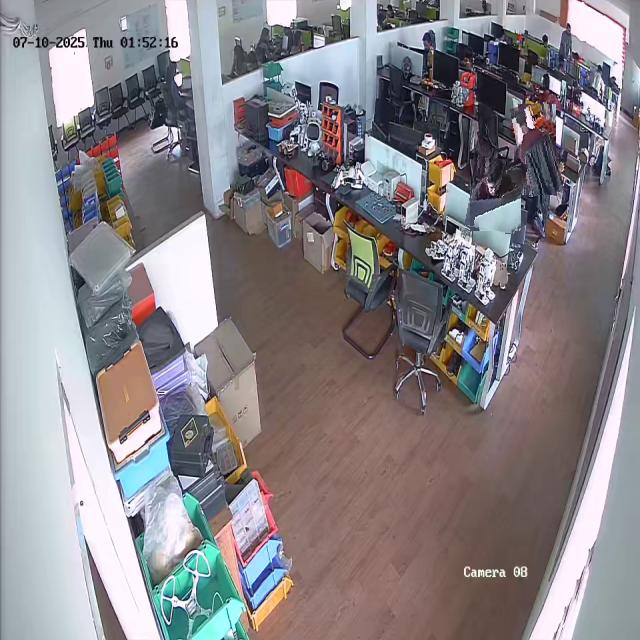person: (467, 158, 524, 234), (514, 103, 560, 196)
